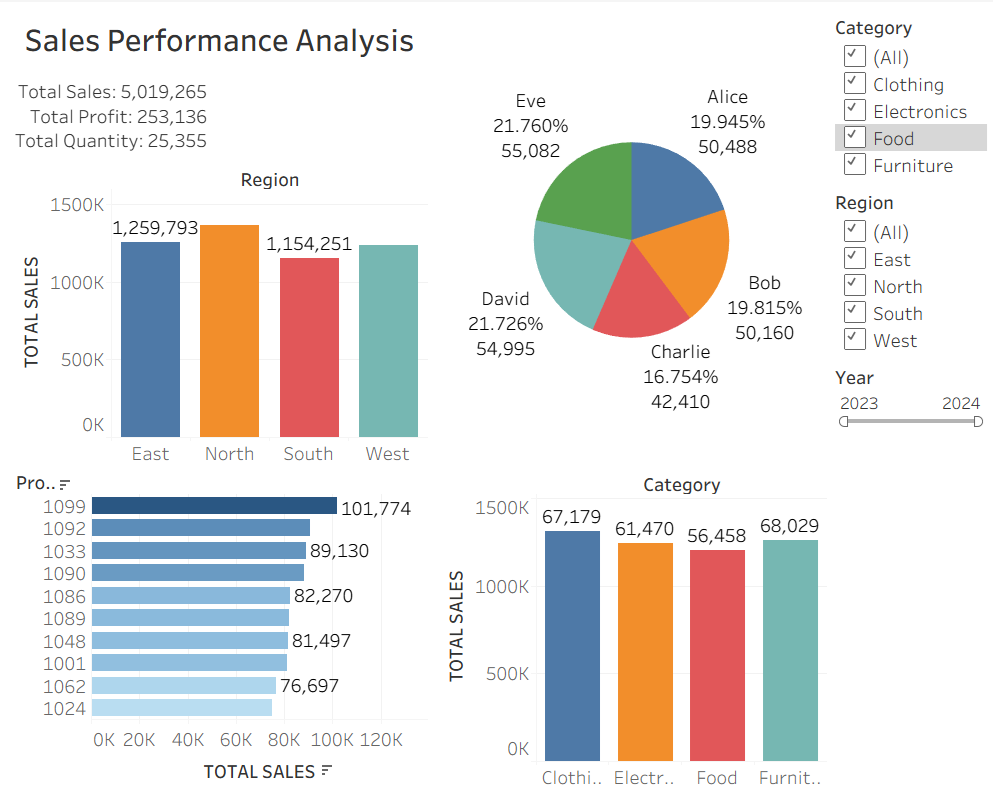

The page's visual inventory and layout, read from the dashboard file:
{"tool":"tableau","page":{"name":"Dashboard 1","canvas":[1000,800],"ordinal":0},"visuals":[{"type":"worksheet","title":"Sheet 6","mark":"Automatic","box":[8,8,425,57]},{"type":"worksheet","title":"Total Profit by Sales Rep","mark":"Pie","box":[433,8,399,460]},{"type":"filter","title":"Total Profit by Sales Rep","param":"[federated.0mnkfki1w1icdc1fdg2tv1tmj4yk].[none:Product_Category:nk]","box":[832,8,160,175]},{"type":"worksheet","title":"KPI Card","mark":"Automatic","box":[8,65,425,98]},{"type":"worksheet","title":"Sales By Region","mark":"Automatic","rows":["Calculation_0738097970503681"],"cols":["Region"],"box":[8,163,425,305]},{"type":"filter","title":"Total Profit by Sales Rep","param":"[federated.0mnkfki1w1icdc1fdg2tv1tmj4yk].[none:Region:nk]","box":[832,183,160,175]},{"type":"filter","title":"Total Profit by Sales Rep","param":"[federated.0mnkfki1w1icdc1fdg2tv1tmj4yk].[none:Calculation_0738097984126982:qk]","box":[832,358,160,77]},{"type":"worksheet","title":"Top 10 product by sales","mark":"Automatic","rows":["Product_ID"],"cols":["Calculation_0738097970503681"],"box":[8,468,425,324]},{"type":"worksheet","title":"Sales By Category","mark":"Automatic","rows":["Calculation_0738097970503681"],"cols":["Product_Category"],"box":[433,468,399,324]}]}

Visuals, with their boxes in screenshot pixels (x1, y1, x2, y2), scaled from the page's 1000x800 canvas onto the 993x802 screenshot:
"Sheet 6" worksheet: [x1=8, y1=8, x2=430, y2=65]
"Total Profit by Sales Rep" worksheet (Pie marks): [x1=430, y1=8, x2=826, y2=469]
"Total Profit by Sales Rep" filter: [x1=826, y1=8, x2=985, y2=183]
"KPI Card" worksheet: [x1=8, y1=65, x2=430, y2=163]
"Sales By Region" worksheet: [x1=8, y1=163, x2=430, y2=469]
"Total Profit by Sales Rep" filter: [x1=826, y1=183, x2=985, y2=359]
"Total Profit by Sales Rep" filter: [x1=826, y1=359, x2=985, y2=436]
"Top 10 product by sales" worksheet: [x1=8, y1=469, x2=430, y2=794]
"Sales By Category" worksheet: [x1=430, y1=469, x2=826, y2=794]
